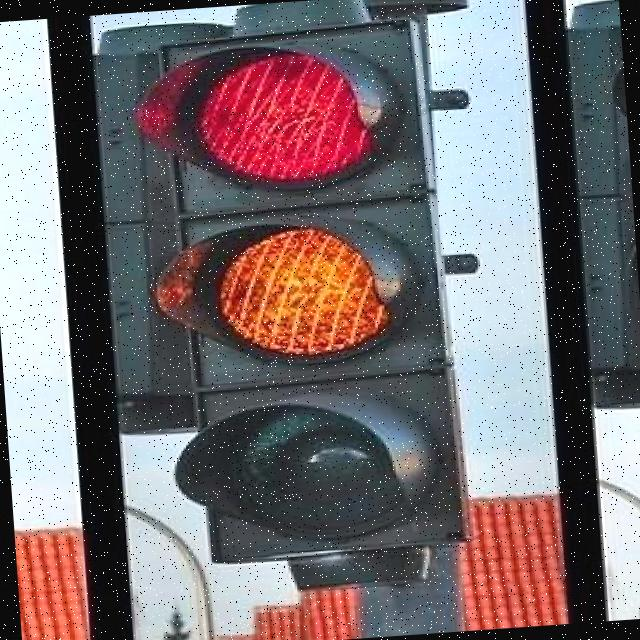Zolte swiatlo: (130, 24, 480, 568)
